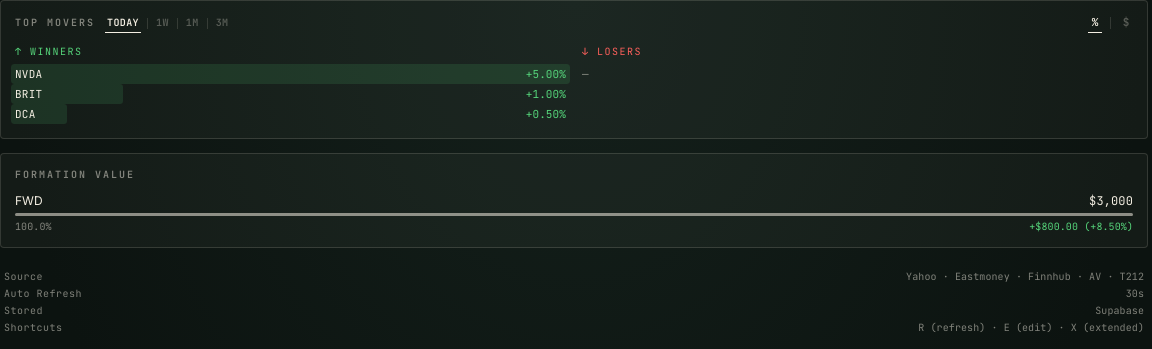
it: Sidebar — Top Movers window › ranks nothing while a holding's window history has not arrived
This screenshot has width=1152, height=349.
Click the tab named "Rank movers over 1M".
click(192, 24)  # box [184,16,201,33]
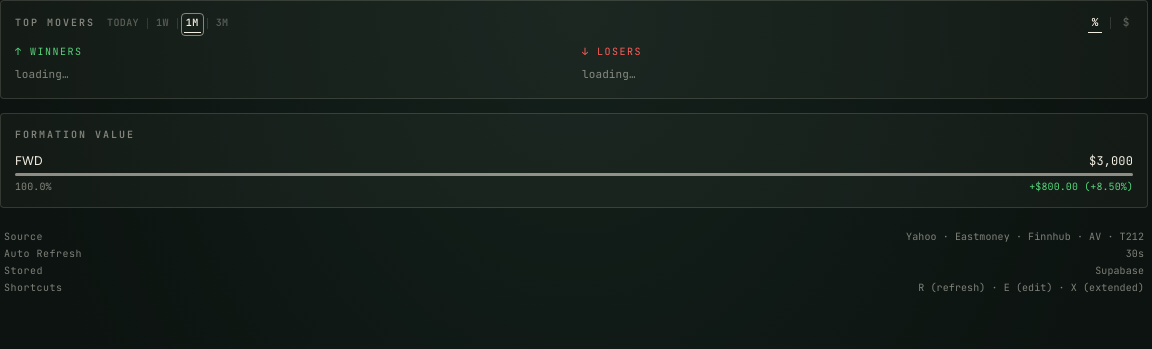
Check: the text "loading…" is shown 2 times, box [15,67,69,81]; [582,67,636,81]
